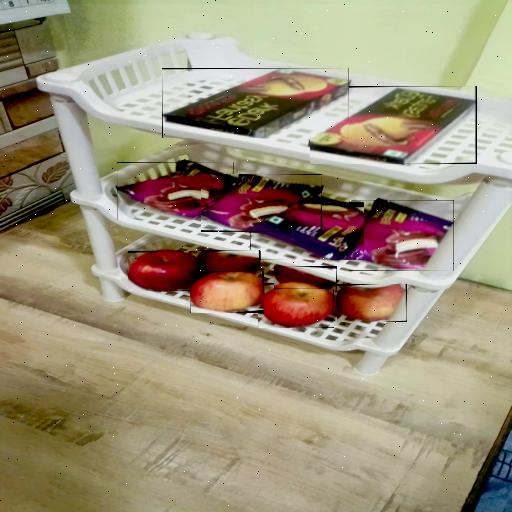Apple: (258, 283, 334, 328), (128, 251, 206, 291), (190, 271, 264, 313), (337, 284, 407, 322), (198, 250, 260, 276), (274, 266, 337, 289)
Choco Fills: (162, 68, 349, 138), (310, 86, 477, 164)
Choco Pie: (349, 200, 454, 271), (201, 174, 322, 232), (117, 162, 234, 220), (250, 203, 364, 260)
